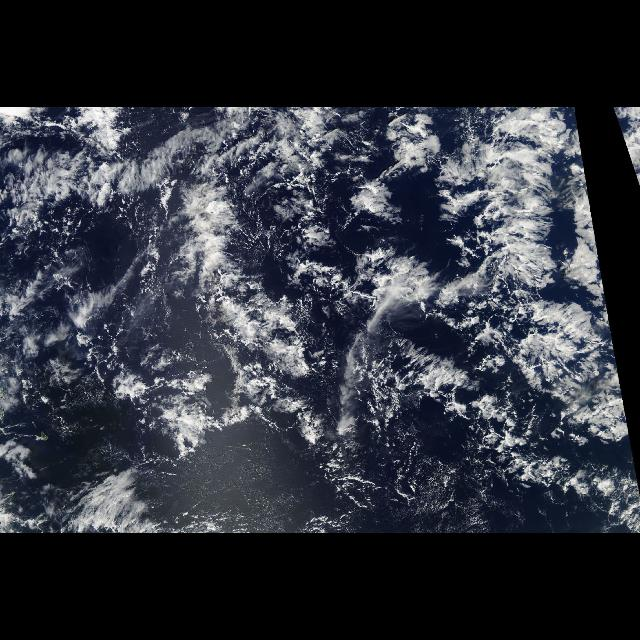Fish: (149, 112, 636, 476), (614, 111, 636, 180)
Sugar: (152, 418, 314, 532)
